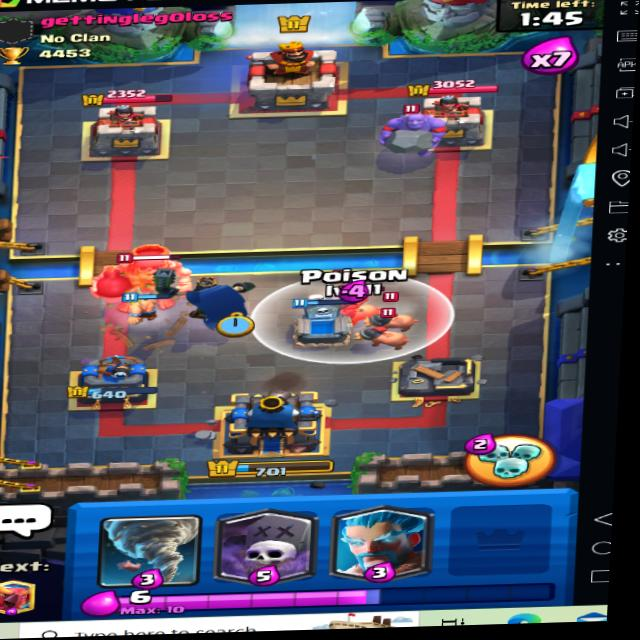bowler: (373, 105, 452, 161)
giant-skeleton: (82, 241, 205, 306)
royal-hogs: (358, 323, 413, 350), (372, 303, 426, 329), (341, 299, 385, 322)
